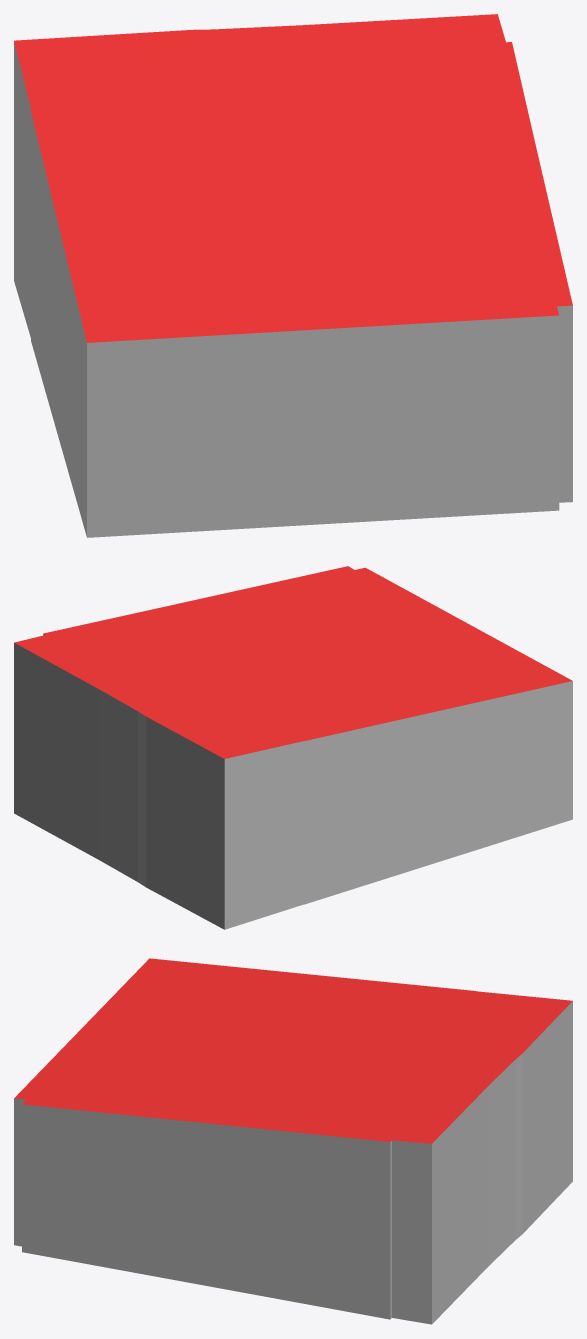
Rendered from DEBY_LOD2_4907217.dae.
3 renders of one model, top to bottom at view 1: azimuth 30°, elevation 25°; view 2: azimuth 150°, elevation 25°; view 3: azimuth 270°, elevation 25°, orthographic. The views are drawn at different scales.
Bounding box in the file's own units: 15.07 × 16.21 × 5.79.
